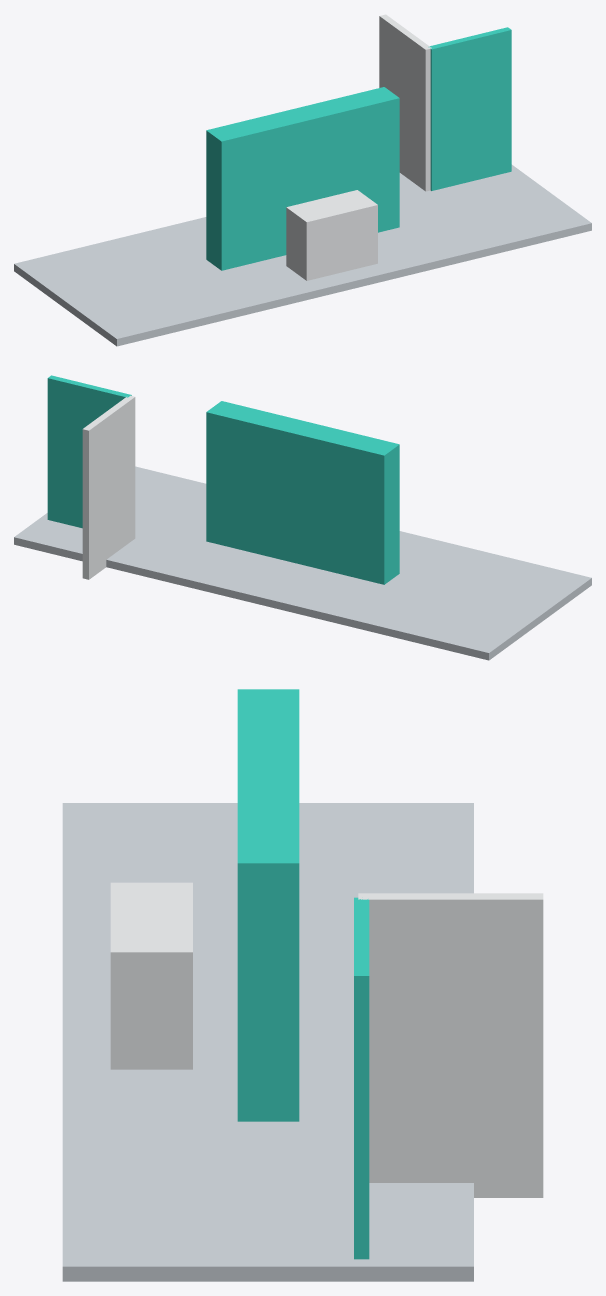
The picture shows the model from 3 angles, top to bottom: view 1: azimuth 30°, elevation 25°; view 2: azimuth 150°, elevation 25°; view 3: azimuth 270°, elevation 25°; orthographic projection. The views are drawn at different scales.
Visible parts, largest first — view 1: Exhibition Booth Concept; view 2: Exhibition Booth Concept; view 3: Exhibition Booth Concept.
Part boxes in pixels (bbox=[...]): Exhibition Booth Concept: bbox=[14, 14, 591, 346]; Exhibition Booth Concept: bbox=[14, 375, 591, 660]; Exhibition Booth Concept: bbox=[62, 689, 543, 1281].
Bounding box in the file's own units: 8 × 2.4 × 3.51.
